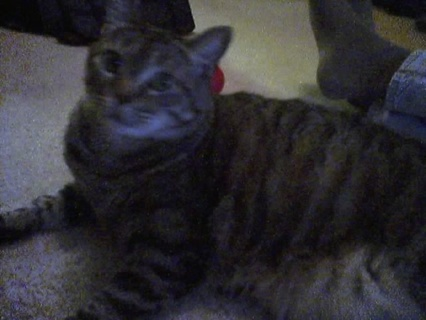Cat: (0, 0, 424, 319)
